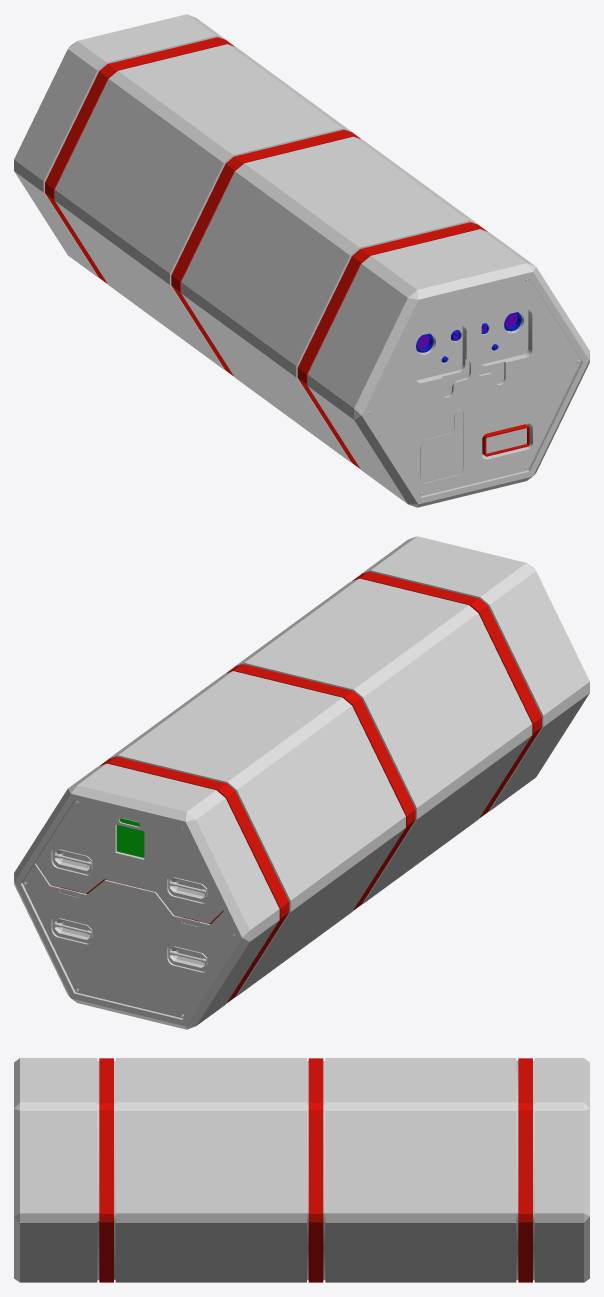
File: Cargo long.fbx
3 renders of one model, top to bottom at view 1: azimuth 30°, elevation 25°; view 2: azimuth 150°, elevation 25°; view 3: azimuth 270°, elevation 25°, orthographic. The views are drawn at different scales.
Visible parts, largest first — view 1: Cylinder; view 2: Cylinder; view 3: Cylinder.
Boxes of the visible parts, x1=… form: Cylinder: x1=14, y1=14, x2=589, y2=507; Cylinder: x1=14, y1=536, x2=589, y2=1029; Cylinder: x1=14, y1=1058, x2=589, y2=1282.
Size of the model in its own units: 196 by 173 by 501.
